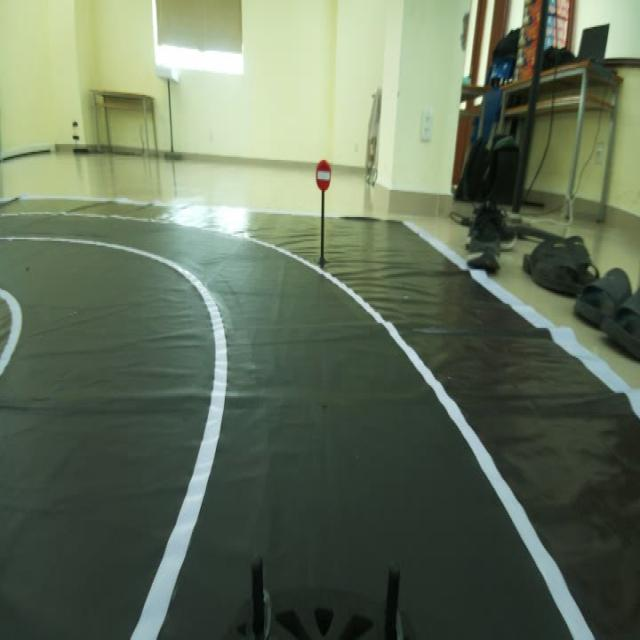no_entry: (314, 157, 334, 196)
